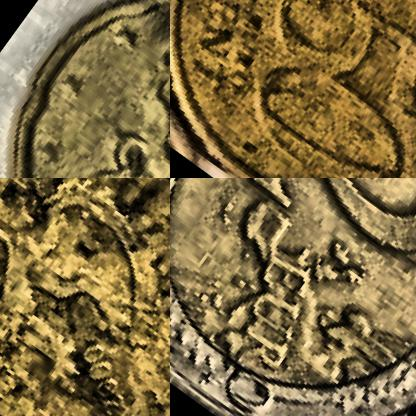coin: (170, 178, 415, 415), (170, 0, 415, 177), (0, 178, 169, 415), (0, 0, 169, 177)
